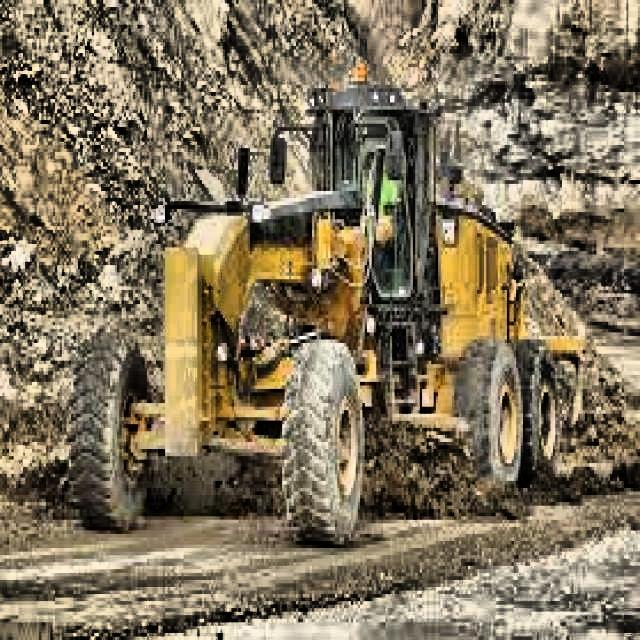bull_dozer/loader/grader: (65, 58, 594, 550)
person: (369, 142, 396, 206)
